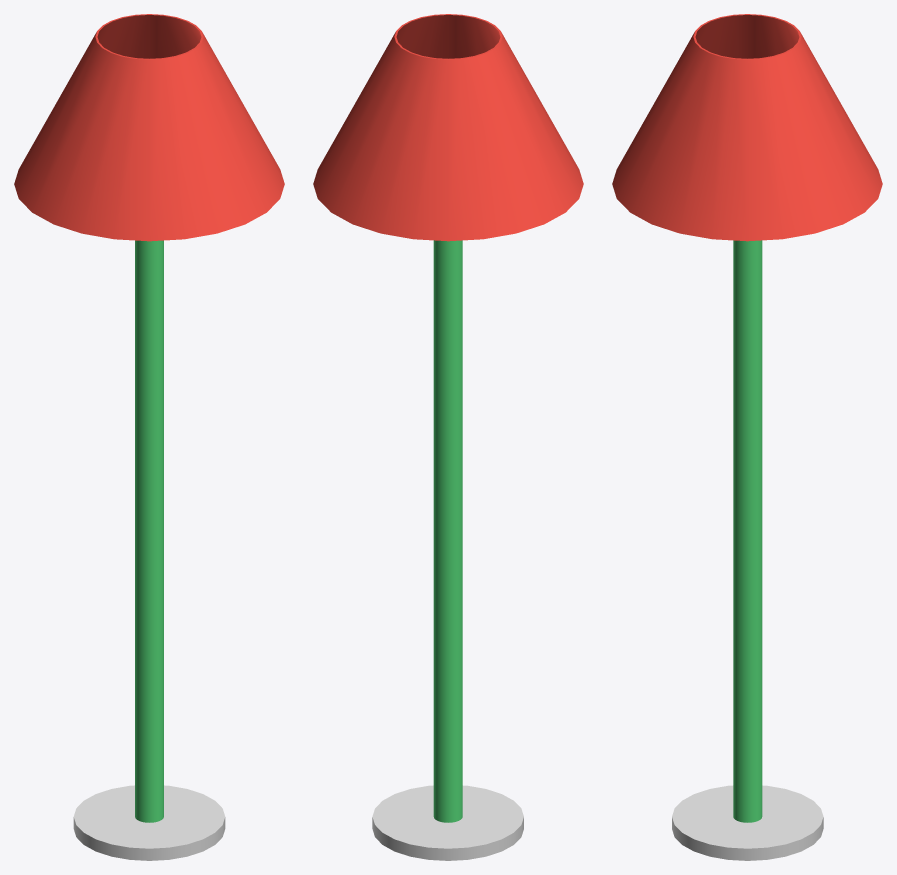
Rendered from lamba.fbx.
3 renders of one model, left to right at view 1: azimuth 30°, elevation 25°; view 2: azimuth 150°, elevation 25°; view 3: azimuth 270°, elevation 25°, orthographic.
Parts seen in each view (by area): view 1: Group_003; view 2: Group_003; view 3: Group_003.
Part boxes in pixels (bbox=[...]): Group_003: bbox=[14, 14, 284, 860]; Group_003: bbox=[313, 14, 583, 860]; Group_003: bbox=[612, 14, 882, 860].
Bounding box in the file's own units: 0.5 × 1.61 × 0.5.
